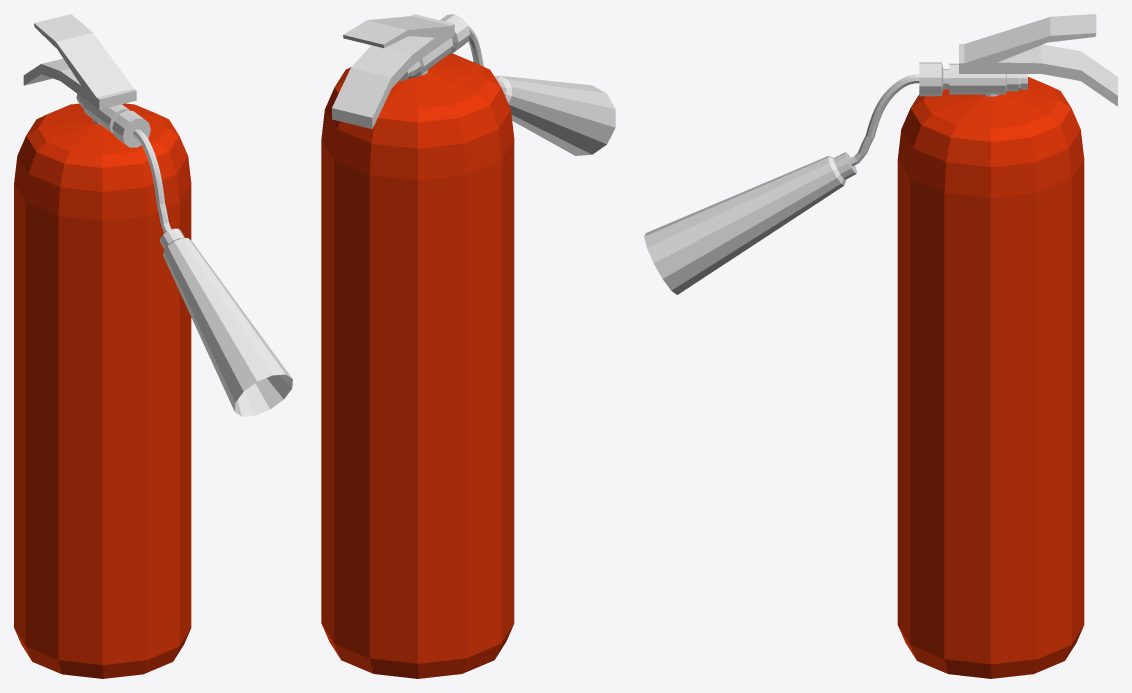
File: new_ognetushitel00002.fbx
3 views of the same model, side by side, from view 1: azimuth 30°, elevation 25°; view 2: azimuth 150°, elevation 25°; view 3: azimuth 270°, elevation 25° (orthographic). The views are drawn at different scales.
Parts seen in each view (by area): view 1: Base, Rastrub, The clamp, Valve, Tube; view 2: Base, The clamp, Rastrub, Valve; view 3: Base, Rastrub, The clamp, Valve, Tube.
Part boxes in pixels (box(x1,y1,x2,y2)): Base: box(14, 103, 191, 678); Rastrub: box(160, 228, 292, 416); The clamp: box(23, 14, 136, 109); Valve: box(76, 94, 150, 147); Tube: box(133, 129, 171, 233); Base: box(321, 53, 514, 678); The clamp: box(332, 14, 454, 129); Rastrub: box(494, 75, 615, 155); Valve: box(398, 14, 470, 81); Base: box(897, 77, 1084, 678); Rastrub: box(644, 152, 857, 294); The clamp: box(959, 14, 1117, 106); Valve: box(919, 62, 1027, 96); Tube: box(848, 74, 919, 166).
Size of the model in its own units: 43.64 by 160 by 111.
